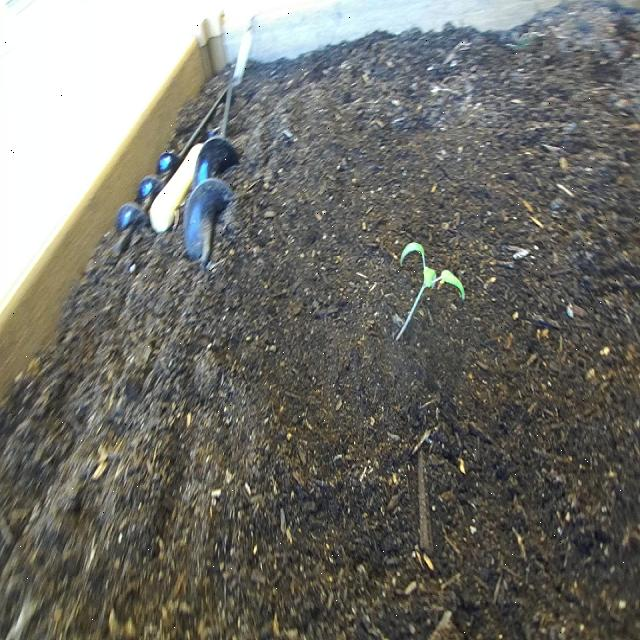Unhealthy: (390, 234, 468, 351)
